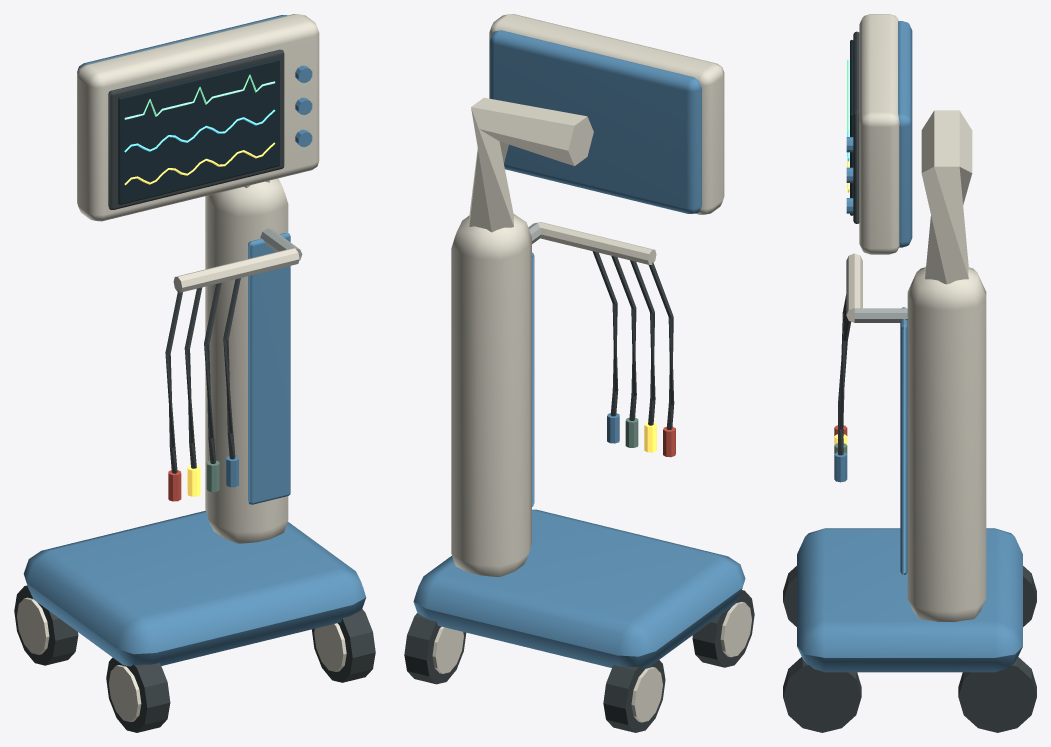
The model's file is patient_monitor_advanced.glb.
The picture shows the model from 3 angles, left to right: view 1: azimuth 30°, elevation 25°; view 2: azimuth 150°, elevation 25°; view 3: azimuth 270°, elevation 25°; orthographic projection. The views are drawn at different scales.
Visible parts, largest first — view 1: STATIC_patient_monitor_advanced, MOVING_PIVOT_monitor_tilt.002; view 2: STATIC_patient_monitor_advanced, MOVING_PIVOT_monitor_tilt.002; view 3: STATIC_patient_monitor_advanced, MOVING_PIVOT_monitor_tilt.002.
Boxes of the visible parts, x1,y1,x2,y2 form: STATIC_patient_monitor_advanced: (14,178,375,732); MOVING_PIVOT_monitor_tilt.002: (77,14,319,221); STATIC_patient_monitor_advanced: (404,97,754,732); MOVING_PIVOT_monitor_tilt.002: (489,14,724,214); STATIC_patient_monitor_advanced: (783,110,1036,732); MOVING_PIVOT_monitor_tilt.002: (846,14,912,254).
Size of the model in its own units: 0.6 by 1.46 by 0.55.
